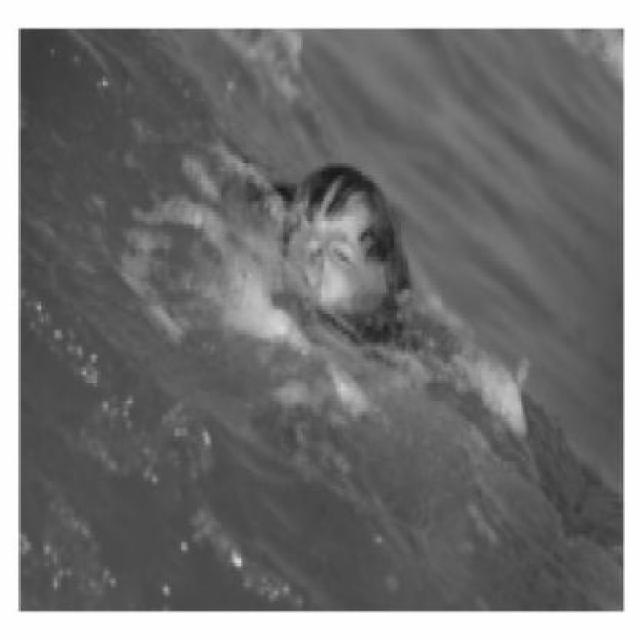drowning: (21, 27, 624, 611)
